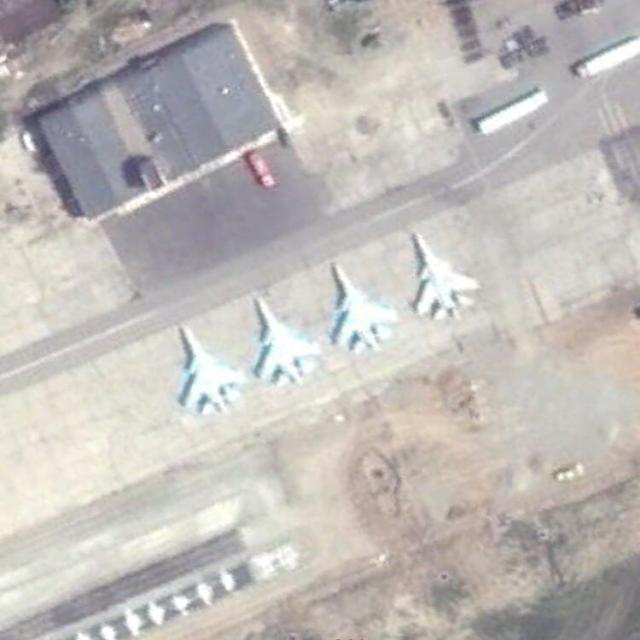fighter jet: (396, 226, 478, 325), (167, 316, 241, 419), (325, 265, 389, 359), (247, 300, 310, 380)
